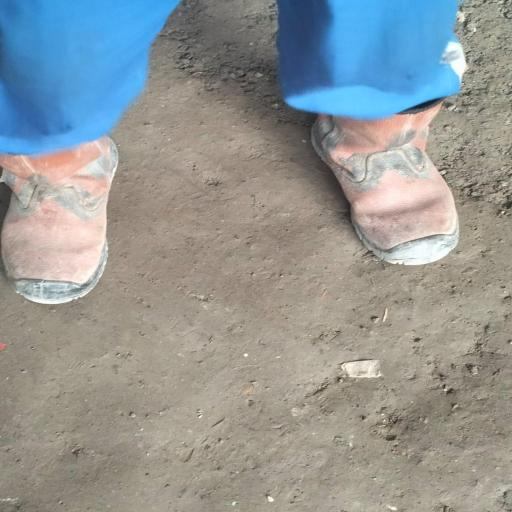safety_shoe: (304, 97, 474, 264), (0, 132, 140, 299)
